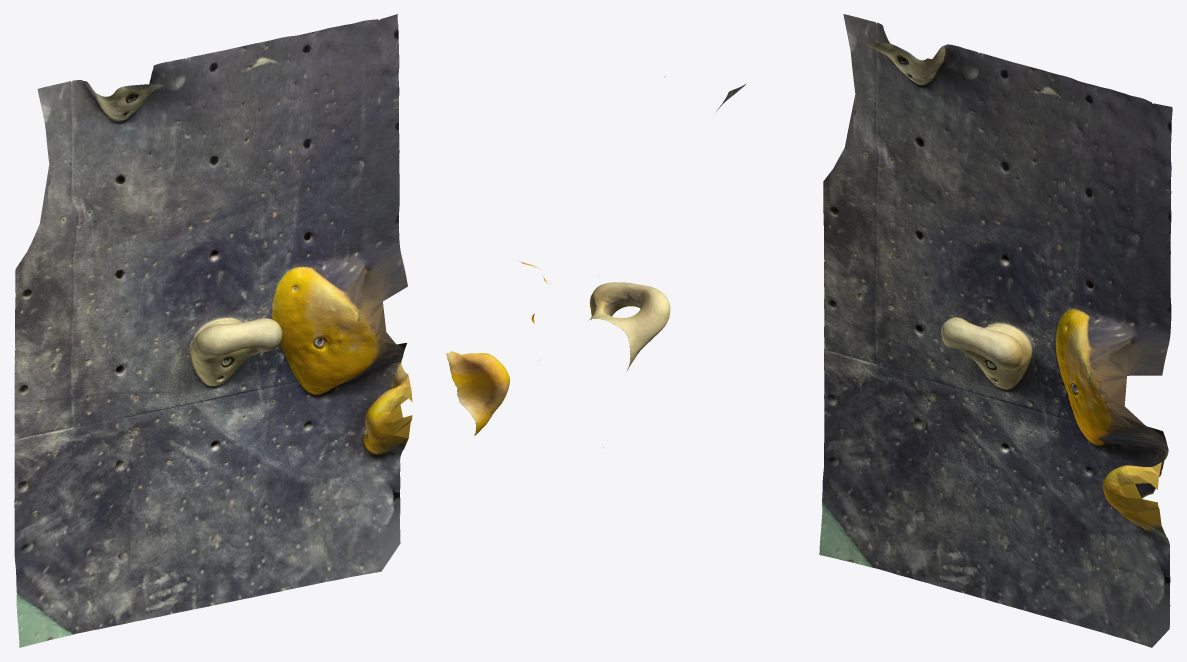
Rendered from 26_11_priseBlanche.glb.
3 views of the same model, side by side, from view 1: azimuth 30°, elevation 25°; view 2: azimuth 150°, elevation 25°; view 3: azimuth 330°, elevation 25° (orthographic). The views are drawn at different scales.
Bounding box in the file's own units: 0.6315 × 0.9042 × 0.1294.
1 material, 1 textured.
